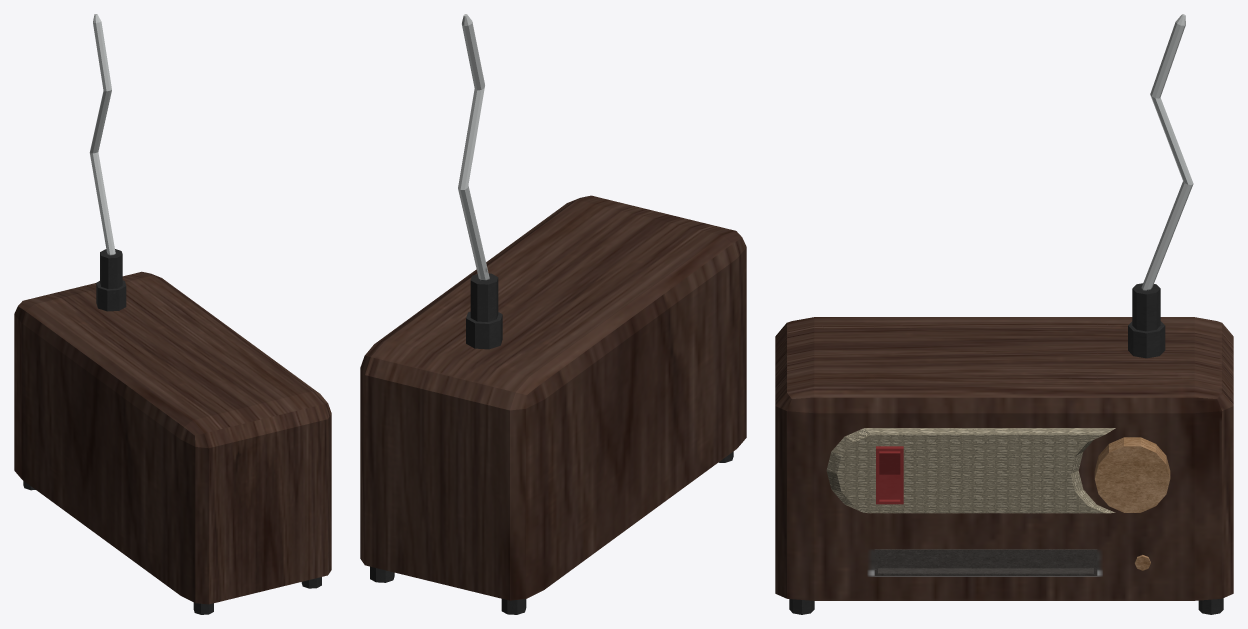
The model's file is Radio_0.3.fbx.
The picture shows the model from 3 angles, left to right: view 1: azimuth 30°, elevation 25°; view 2: azimuth 150°, elevation 25°; view 3: azimuth 270°, elevation 25°; orthographic projection. The views are drawn at different scales.
Parts seen in each view (by area): view 1: RADIO; view 2: RADIO; view 3: RADIO.
Boxes of the visible parts, bbox=[...] form: RADIO: bbox=[14, 14, 331, 614]; RADIO: bbox=[360, 14, 746, 614]; RADIO: bbox=[775, 14, 1233, 614].
Bounding box in the file's own units: 21.64 × 45.03 × 60.94.
